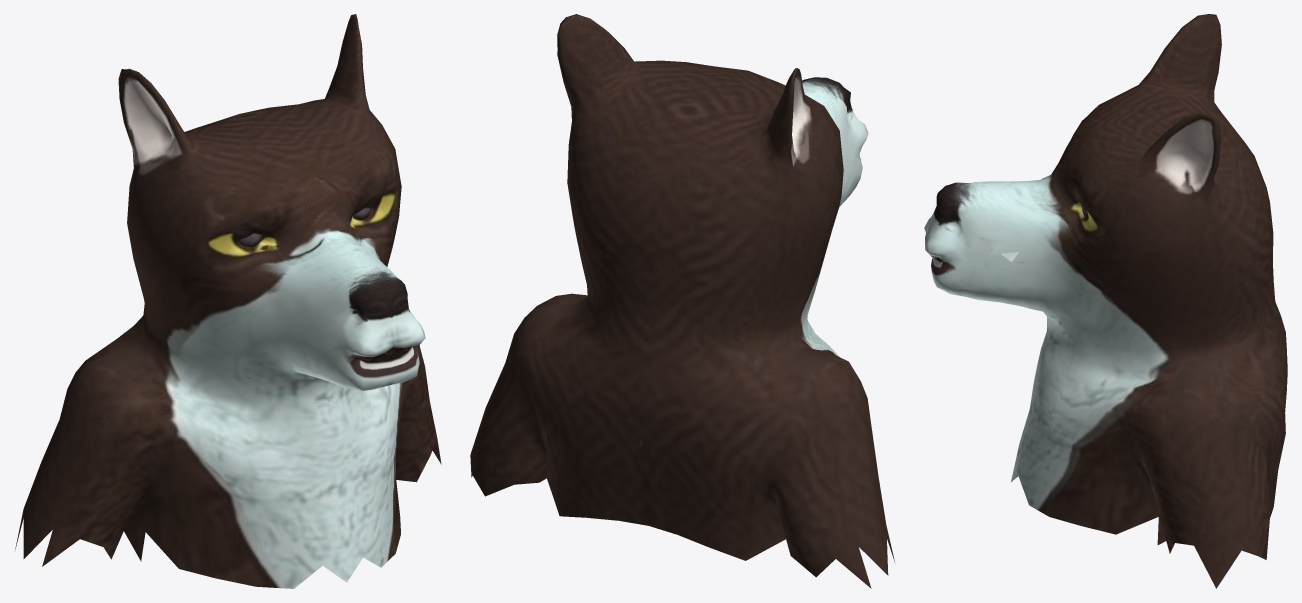
File: wolfwolf.glb
The picture shows the model from 3 angles, left to right: view 1: azimuth 30°, elevation 25°; view 2: azimuth 150°, elevation 25°; view 3: azimuth 270°, elevation 25°; orthographic projection. The views are drawn at different scales.
Visible parts, largest first — view 1: Head; view 2: Head; view 3: Head.
Part boxes in pixels (x1,y1,x2,y2): Head: [15, 14, 441, 588]; Head: [470, 14, 894, 588]; Head: [924, 14, 1287, 588].
Size of the model in its own units: 0.4443 by 0.4858 by 0.3691.
Materials: 1 (1 with a texture image).
